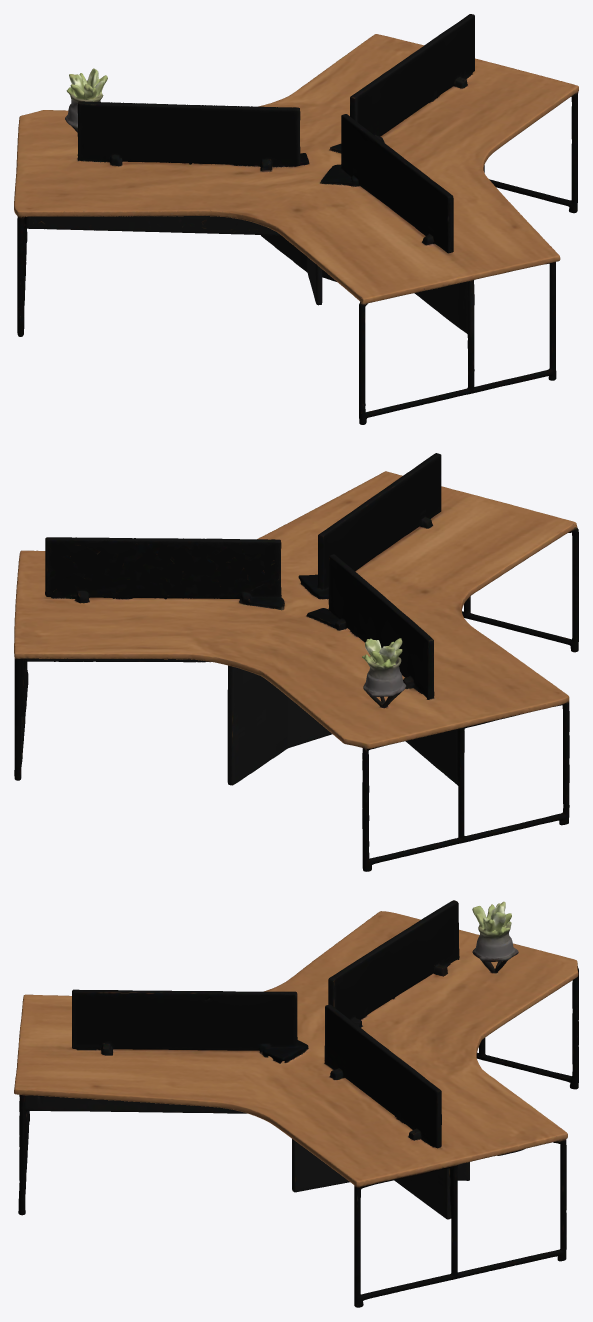
File: 07_四人组合办公位.glb
3 views of the same model, one above another, from view 1: azimuth 30°, elevation 25°; view 2: azimuth 150°, elevation 25°; view 3: azimuth 270°, elevation 25° (orthographic). The views are drawn at different scales.
Visible parts, largest first — view 1: world; view 2: world; view 3: world.
Part boxes in pixels (x1,y1,x2,y2): world: (14,14,578,424); world: (14,453,578,871); world: (14,900,578,1307).
Bounding box in the file's own units: 1 × 0.3335 × 0.884.
1 material, 1 textured.
